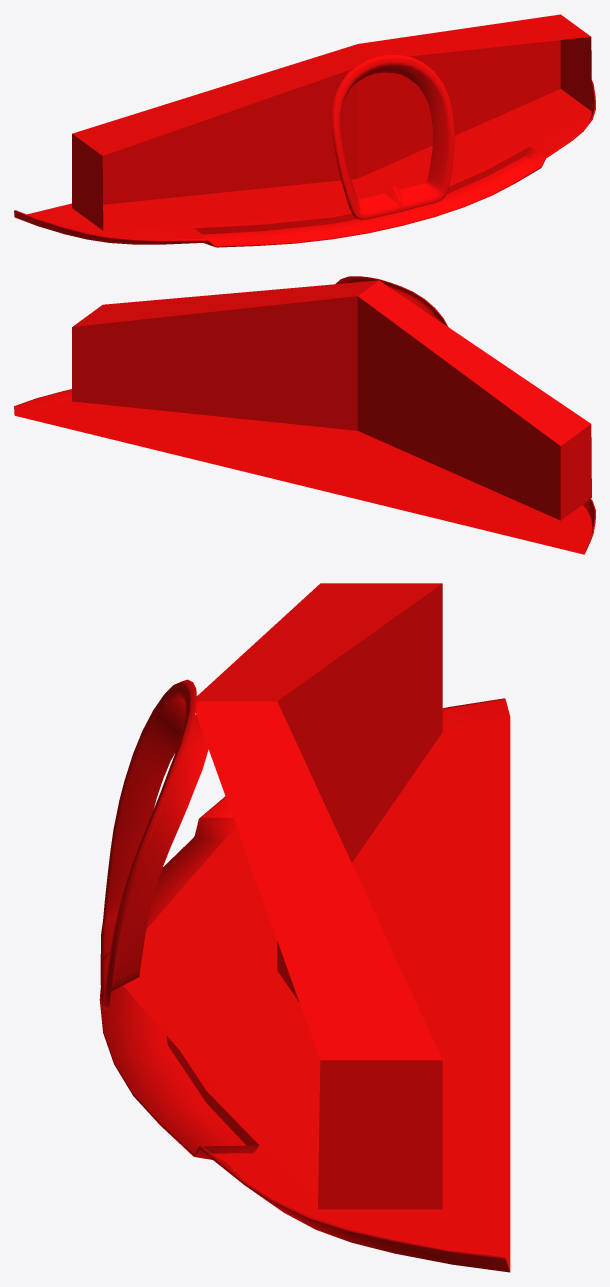
File: Veyron_FB01_Trim.fbx
3 views of the same model, one above another, from view 1: azimuth 30°, elevation 25°; view 2: azimuth 150°, elevation 25°; view 3: azimuth 270°, elevation 25° (orthographic). The views are drawn at different scales.
Visible parts, largest first — view 1: Veyron_FB01_Trim; view 2: Veyron_FB01_Trim; view 3: Veyron_FB01_Trim.
Boxes of the visible parts, x1=… form: Veyron_FB01_Trim: x1=14, y1=14, x2=595, y2=247; Veyron_FB01_Trim: x1=14, y1=276, x2=595, y2=554; Veyron_FB01_Trim: x1=99, y1=583, x2=510, y2=1272.
Size of the model in its own units: 186 by 47.03 by 57.71.
